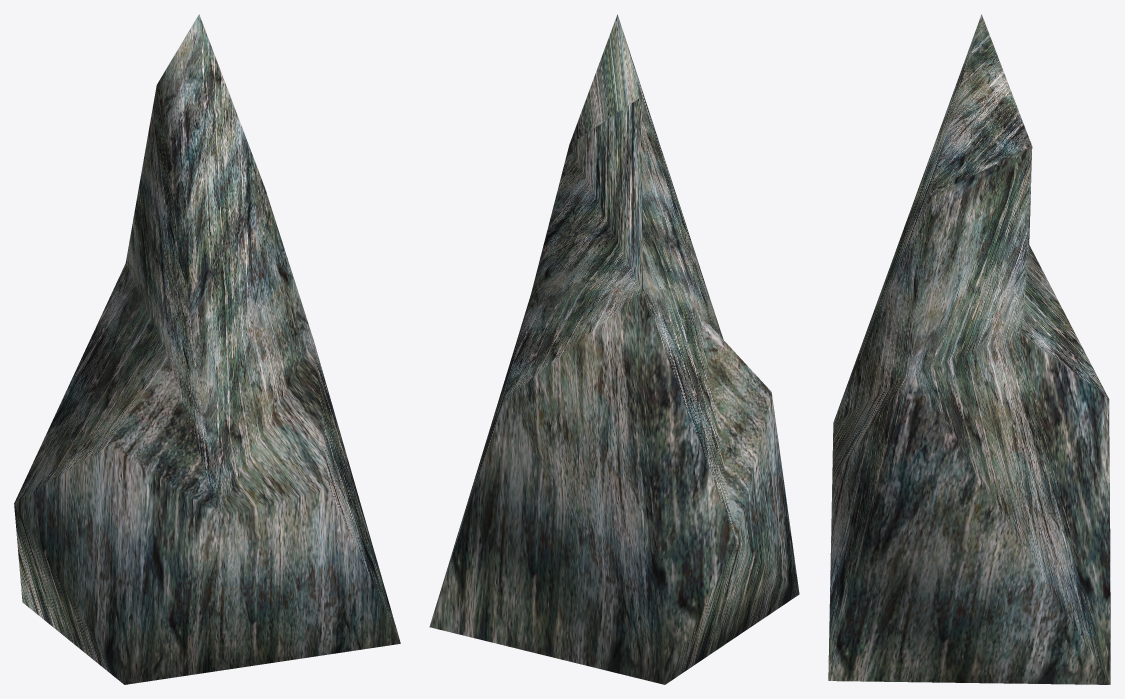
Rendered from rock_dath_desertcanyon_md_a1_l3.fbx.
3 views of the same model, side by side, from view 1: azimuth 30°, elevation 25°; view 2: azimuth 150°, elevation 25°; view 3: azimuth 270°, elevation 25° (orthographic).
Parts seen in each view (by area): view 1: mesh_node; view 2: mesh_node; view 3: mesh_node.
Part boxes in pixels (<box>): mesh_node: <box>14,14,400,684</box>; mesh_node: <box>429,14,799,684</box>; mesh_node: <box>828,14,1110,684</box>.
Size of the model in its own units: 3.66 by 7.6 by 3.19.
